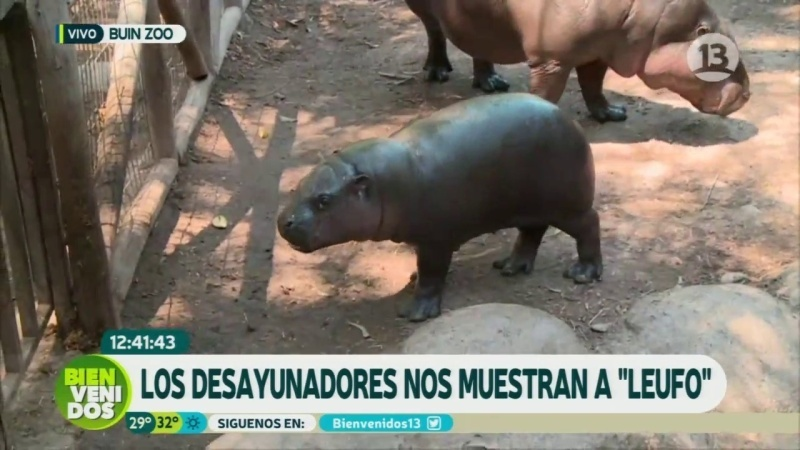hipopotamo: (264, 90, 634, 338), (395, 1, 767, 138)
